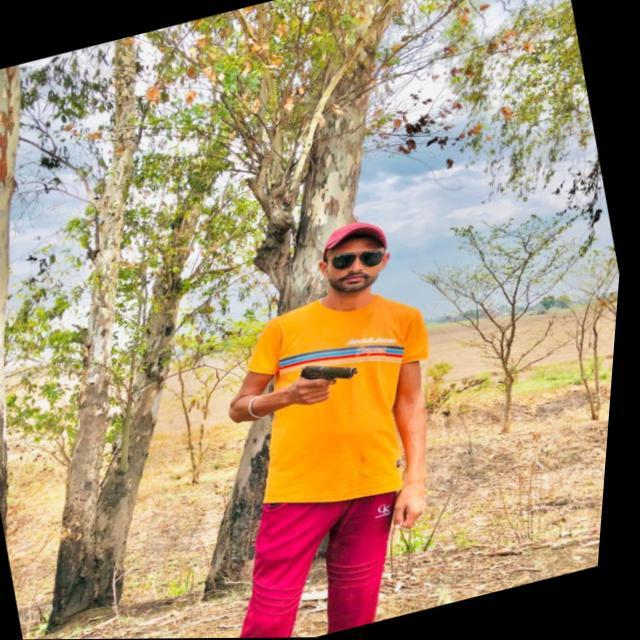weapon: (294, 350, 374, 407)
